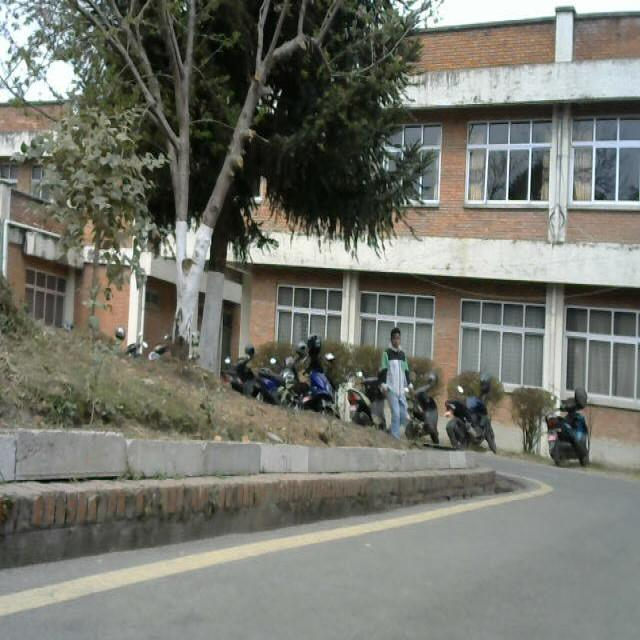Bike: (240, 334, 372, 423), (543, 379, 609, 475), (448, 370, 516, 456)
Buildings: (415, 23, 640, 391)
Road: (0, 466, 640, 640)
trees: (1, 0, 433, 372), (382, 313, 415, 440)
